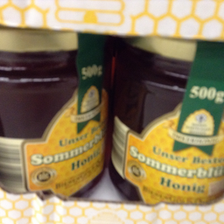honey: (1, 28, 110, 205), (115, 39, 224, 207)
